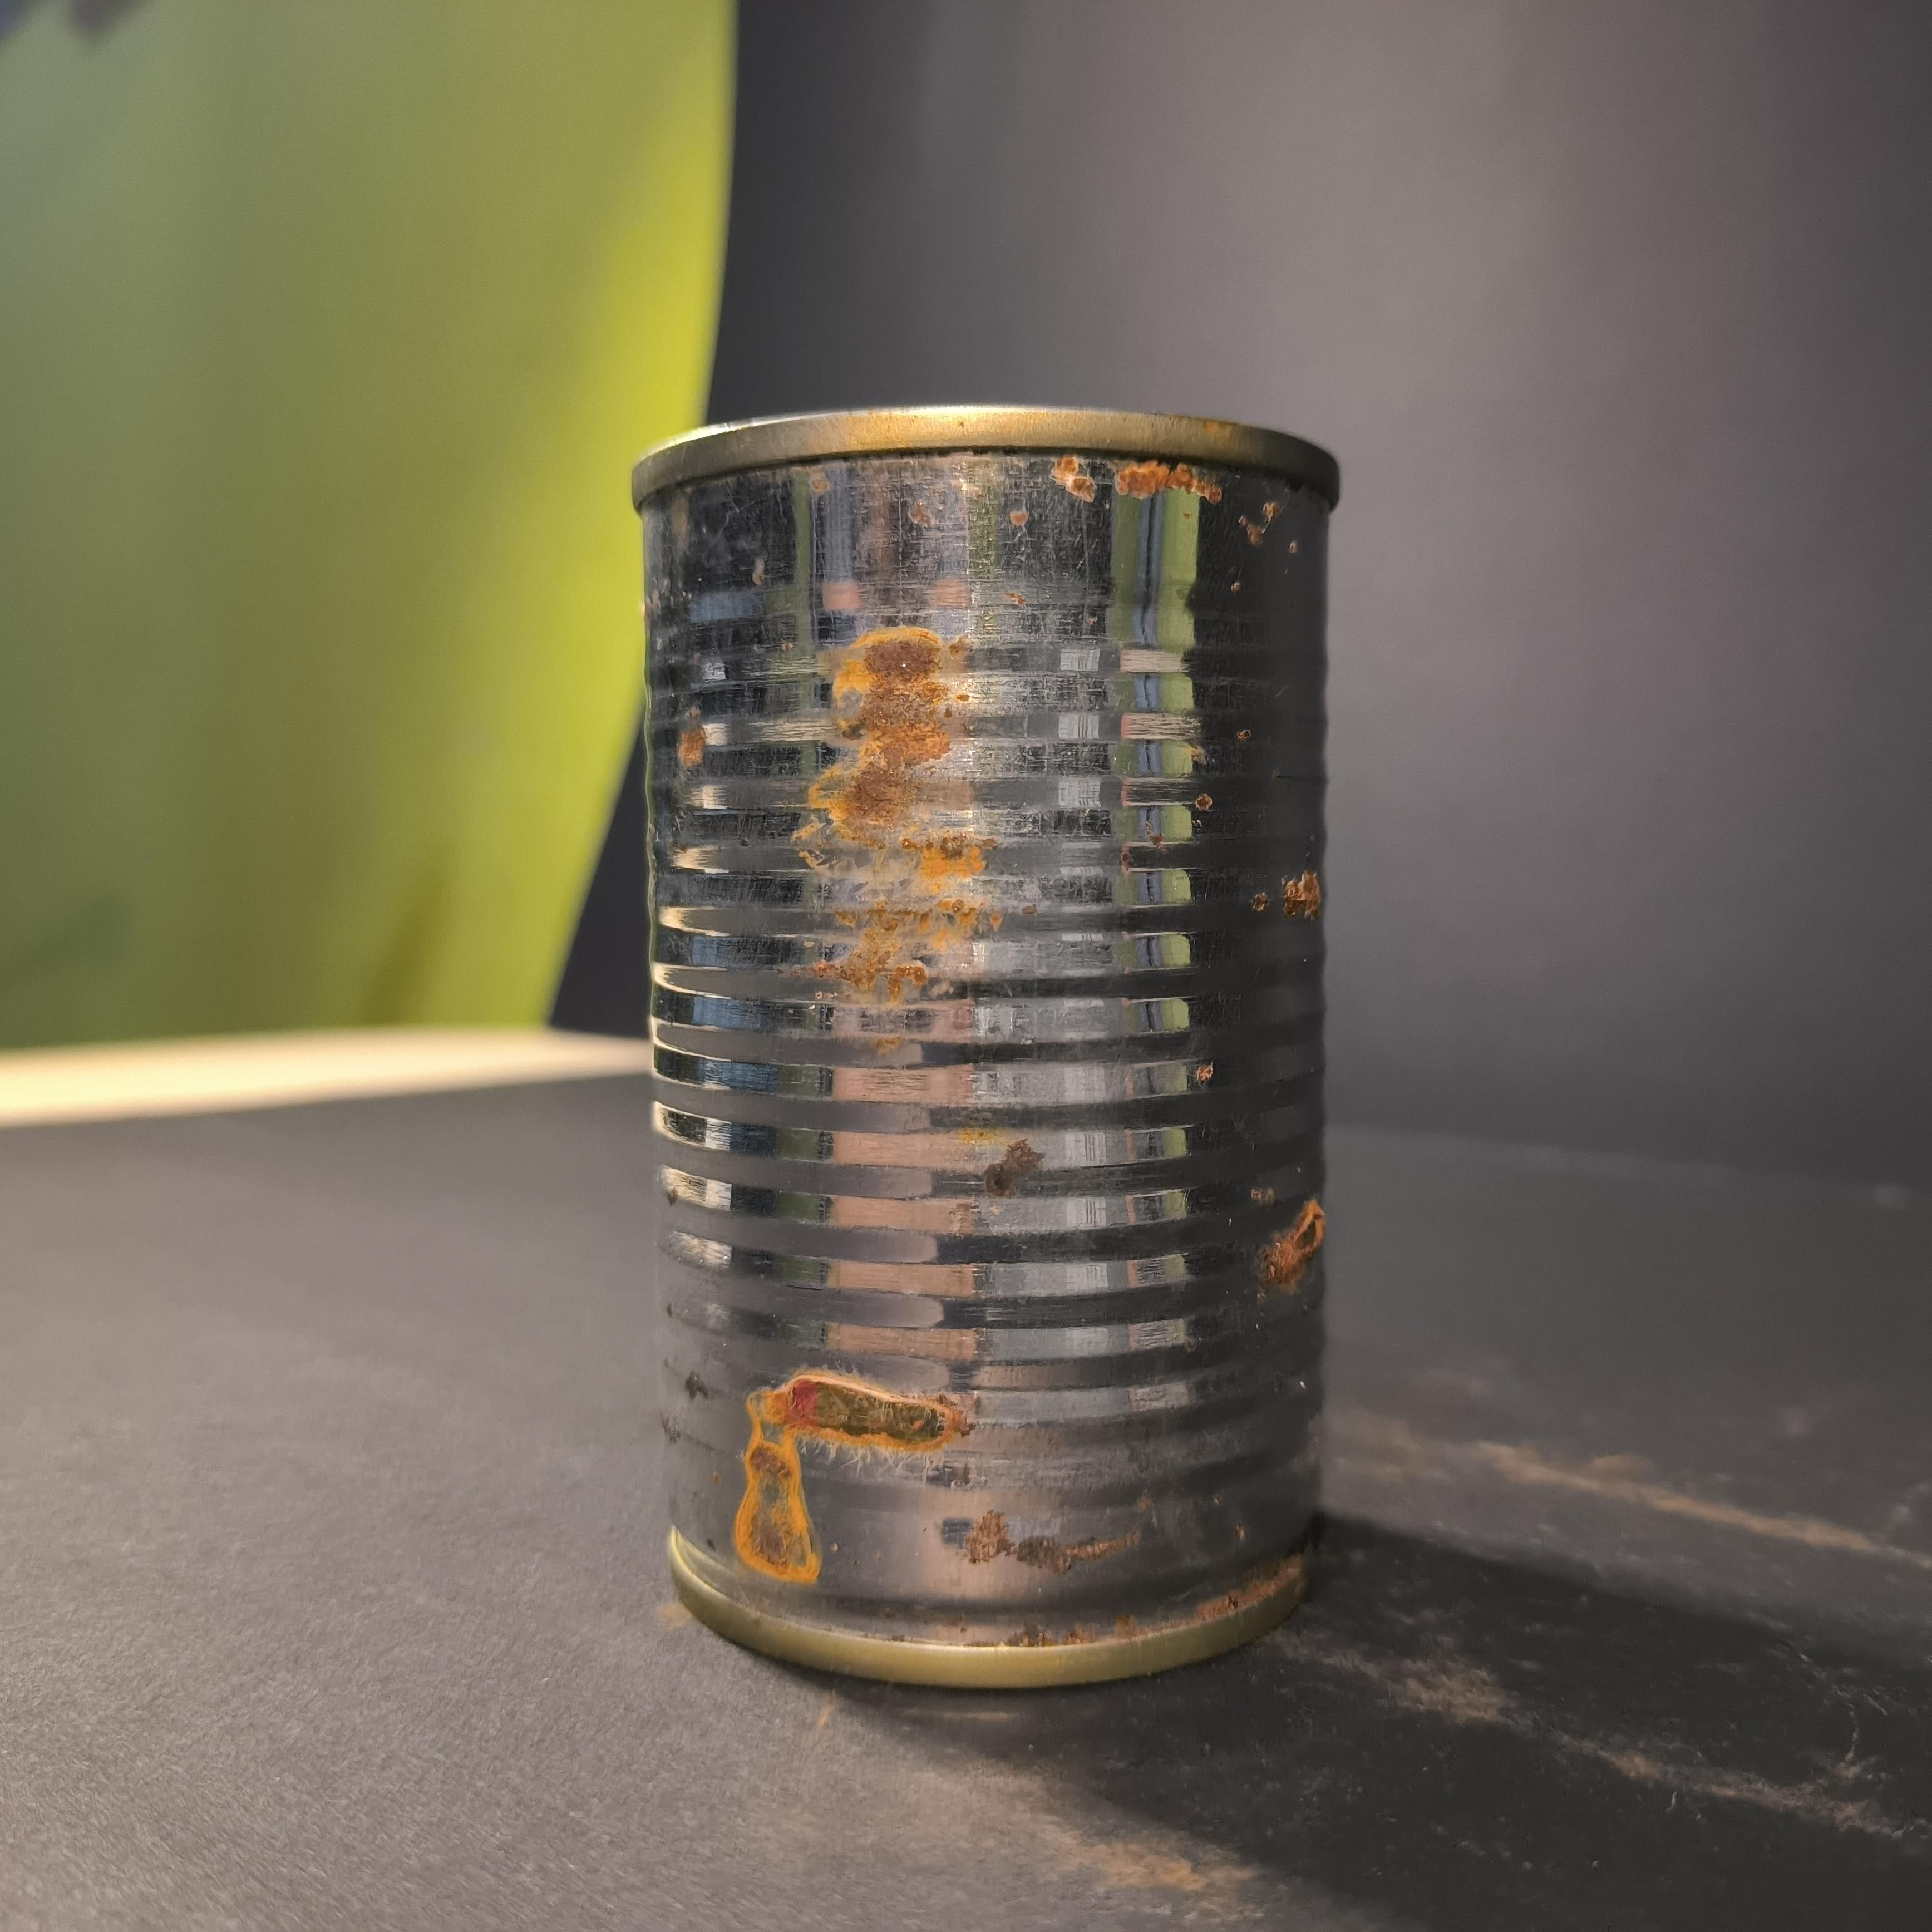Rusted: (616, 380, 1376, 1744)
